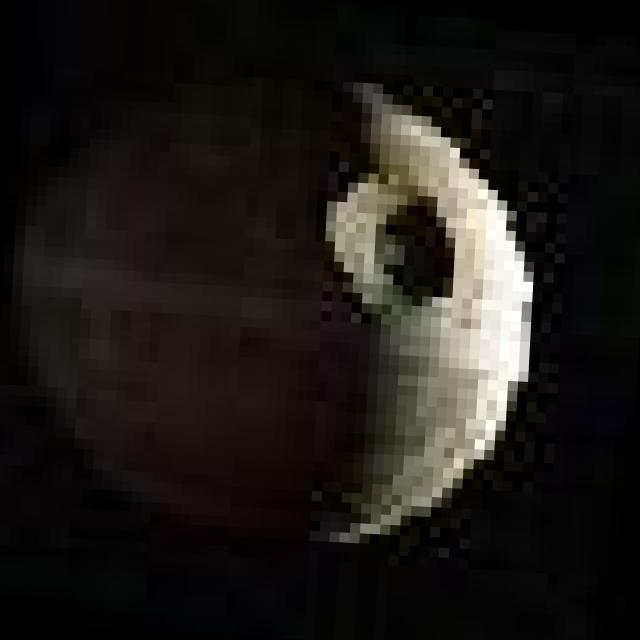Death Star: (4, 61, 562, 566)
